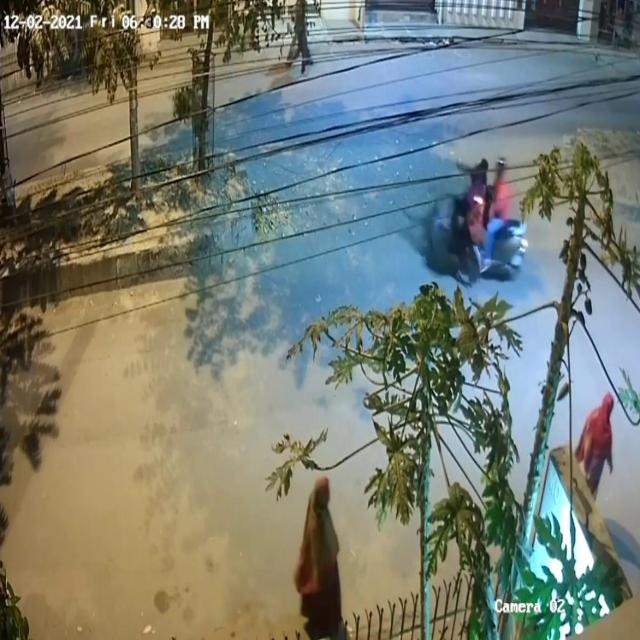accident: (423, 146, 534, 291)
